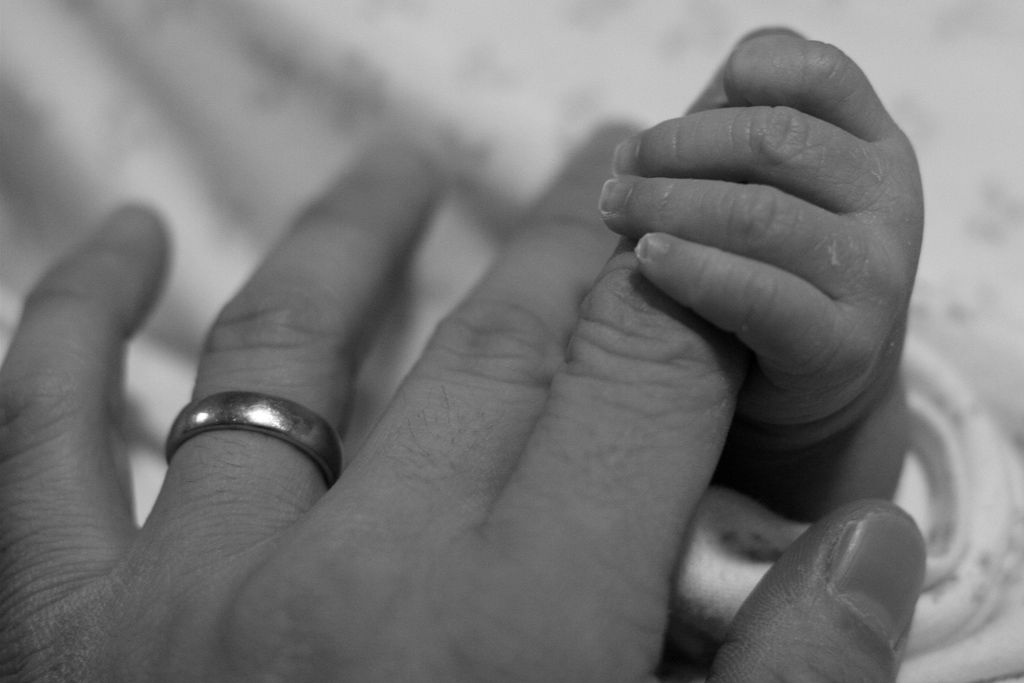Person: (0, 28, 1024, 683)
